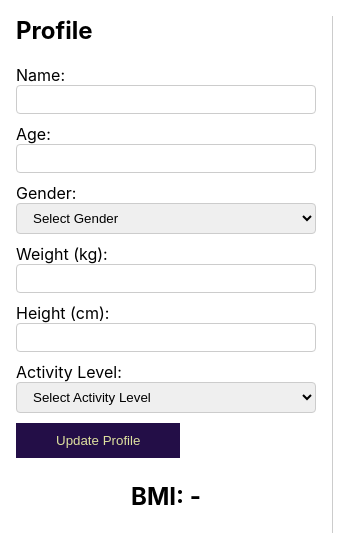
it: Profile › updates profile with valid inputs
Type "John Doe" into the field labelled "Name:" at (166, 99), box [16,85,316,114]
Type "25" into the number field labelled "Age:" at (166, 158), box [16,144,316,173]
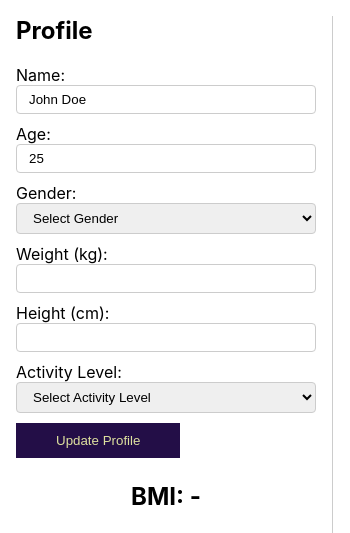
Type "70" into the number field labelled "Weight (kg):" at (166, 278), box [16,264,316,293]
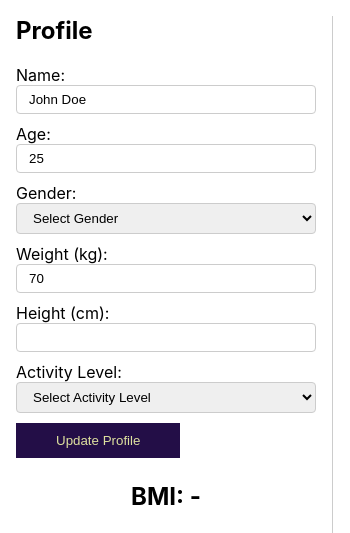
Type "180" into the number field labelled "Height (cm):" at (166, 337), box [16,323,316,352]
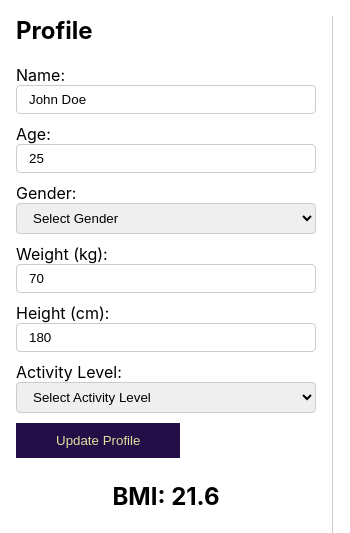
Select "Male" in the dropdown labelled "Gender:" at (166, 218), box [16,203,316,234]
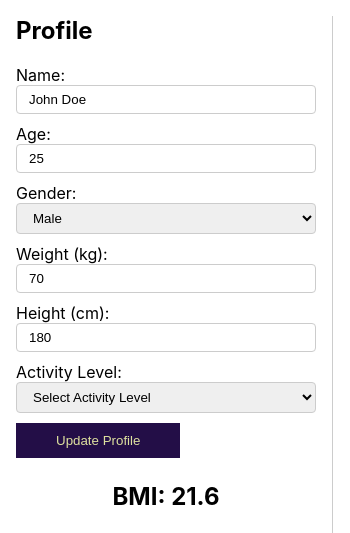
Select "Active" in the dropdown labelled "Activity Level:" at (166, 397), box [16,382,316,413]
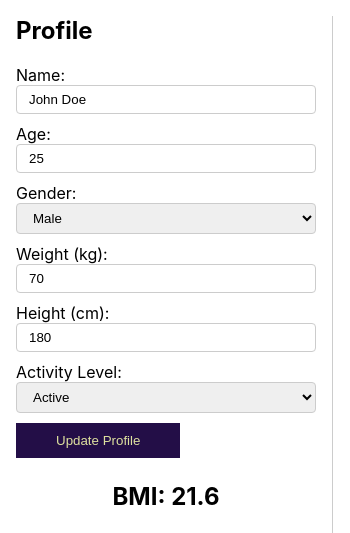
Click the button "Update Profile" at (98, 440), box [16,423,180,458]
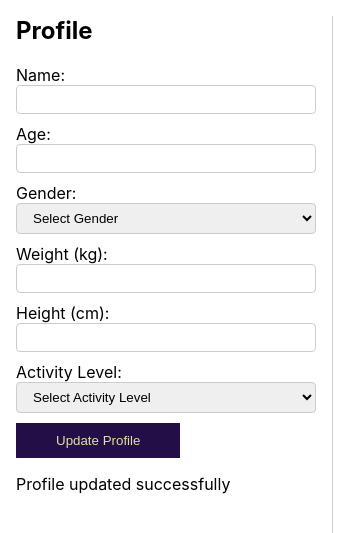
Now the text "Profile updated successfully" is shown, box [16,474,230,494]
